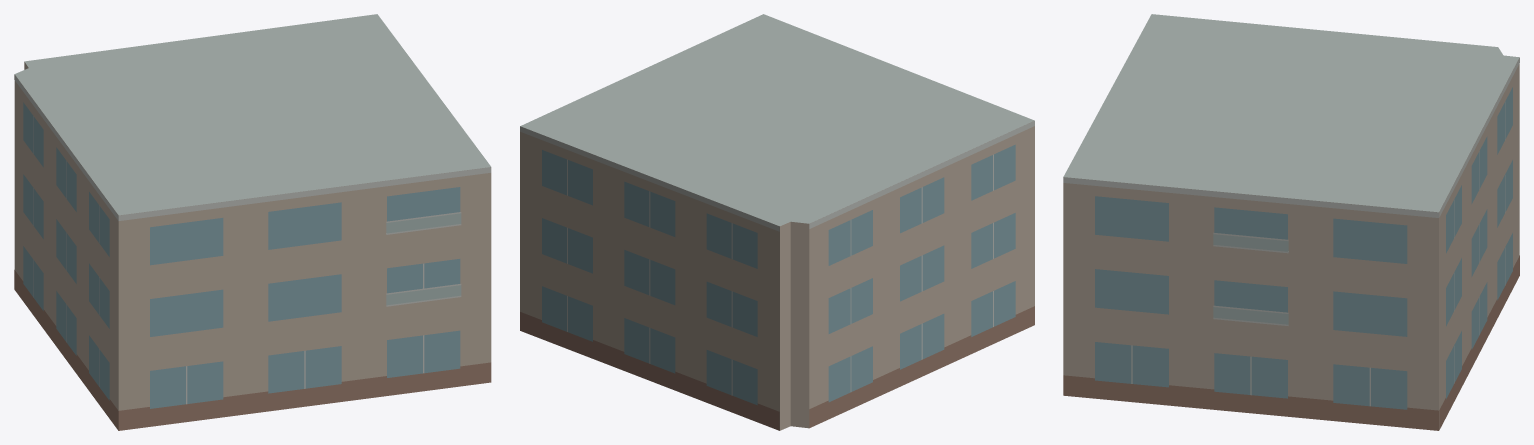
Rendered from survey-upis-32806025.glb.
The picture shows the model from 3 angles, left to right: view 1: azimuth 30°, elevation 25°; view 2: azimuth 150°, elevation 25°; view 3: azimuth 270°, elevation 25°; orthographic projection. The views are drawn at different scales.
Visible parts, largest first — view 1: survey-upis-32806025.tmp; view 2: survey-upis-32806025.tmp; view 3: survey-upis-32806025.tmp.
Part boxes in pixels (left/top/right/bottom): survey-upis-32806025.tmp: left=14, top=14, right=491, bottom=430; survey-upis-32806025.tmp: left=520, top=14, right=1034, bottom=430; survey-upis-32806025.tmp: left=1063, top=14, right=1519, bottom=430.
Size of the model in its own units: 17.81 by 9.15 by 17.33.
